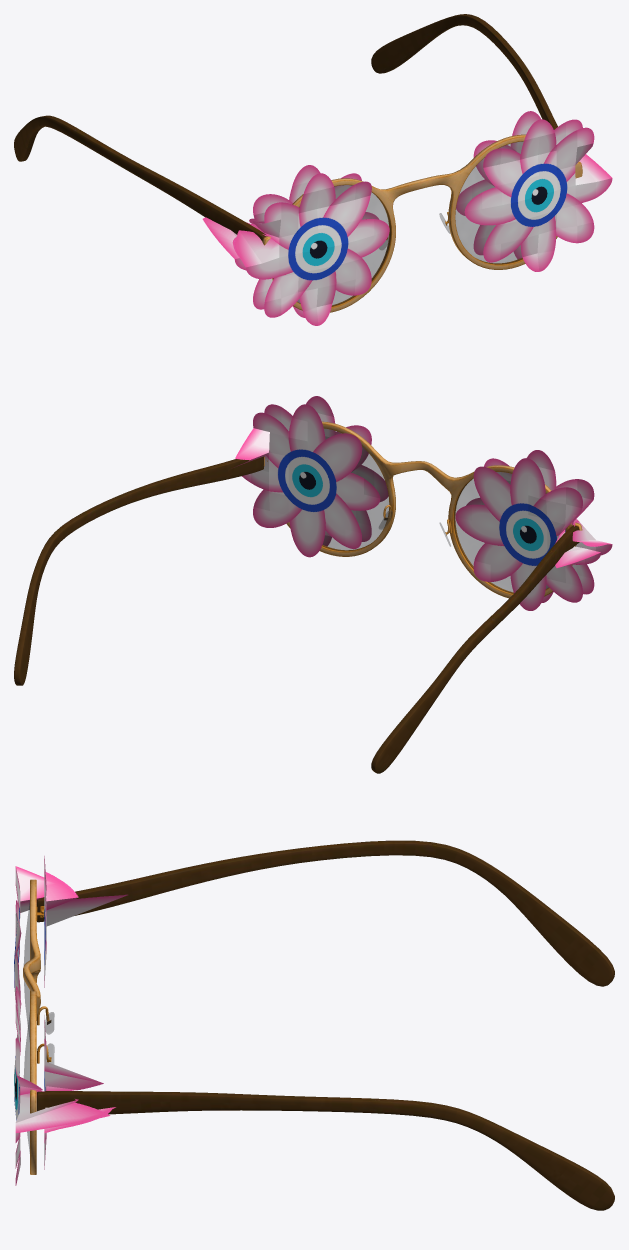
Rendered from nyb_gatsby_spectacles.glb.
The picture shows the model from 3 angles, top to bottom: view 1: azimuth 30°, elevation 25°; view 2: azimuth 150°, elevation 25°; view 3: azimuth 270°, elevation 25°; orthographic projection. The views are drawn at different scales.
Visible parts, largest first — view 1: round_spectacles, stk_eyeflower.png, stk_eyeflower.png.001, stk_eyeflower.png.003, stk_eyeflower.png.002; view 2: round_spectacles, stk_eyeflower.png.002, stk_eyeflower.png.003, stk_eyeflower.png, stk_eyeflower.png.001; view 3: round_spectacles, stk_eyeflower.png.001, stk_eyeflower.png.003, stk_eyeflower.png.002, stk_eyeflower.png.
Boxes of the visible parts, x1,y1,x2,y2 form: round_spectacles: (14, 14, 582, 312); stk_eyeflower.png: (232, 173, 389, 325); stk_eyeflower.png.001: (464, 119, 612, 271); stk_eyeflower.png.003: (202, 165, 378, 317); stk_eyeflower.png.002: (456, 111, 582, 258); round_spectacles: (14, 421, 582, 773); stk_eyeflower.png.002: (234, 404, 380, 557); stk_eyeflower.png.003: (455, 458, 601, 610); stk_eyeflower.png: (466, 450, 612, 602); stk_eyeflower.png.001: (264, 396, 388, 546); round_spectacles: (23, 840, 614, 1210); stk_eyeflower.png.001: (14, 986, 110, 1185); stk_eyeflower.png.003: (44, 856, 127, 987); stk_eyeflower.png.002: (44, 1015, 115, 1169); stk_eyeflower.png: (14, 866, 55, 1051).
Size of the model in its own units: 0.1578 by 0.056 by 0.1513.
Materials: 6 (6 with a texture image).
